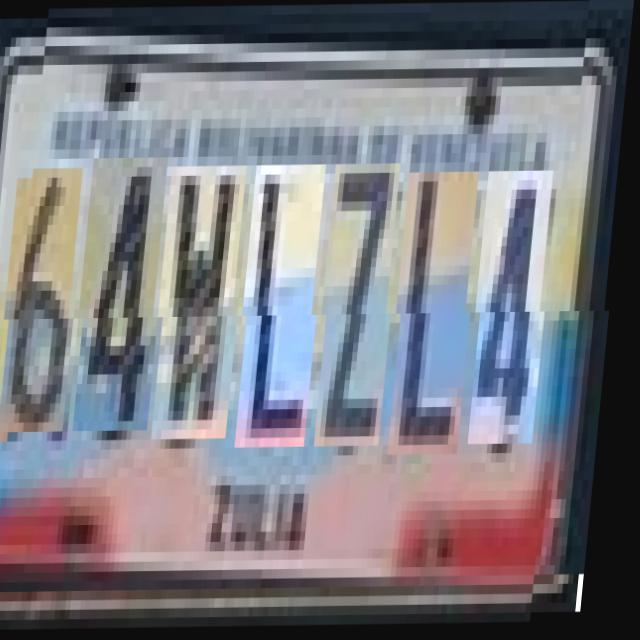4: (82, 158, 176, 432), (477, 172, 562, 446)
6: (7, 168, 91, 432)
L: (243, 165, 334, 448), (397, 173, 488, 456)
W: (160, 167, 255, 440)
Z: (323, 165, 409, 448)
